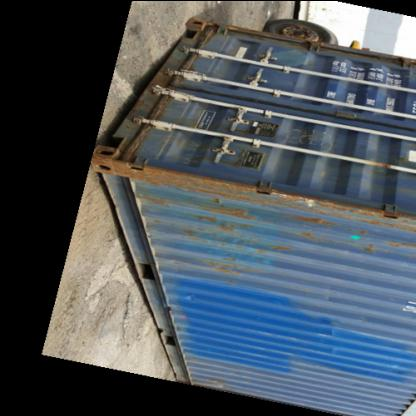Damage: (112, 160, 316, 209), (187, 204, 279, 282), (302, 201, 415, 251), (143, 176, 185, 228)
